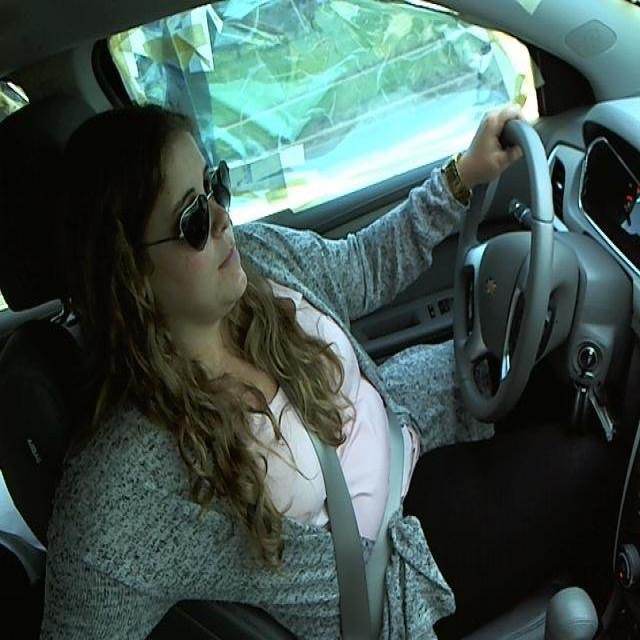seatbelt: (276, 365, 421, 639)
